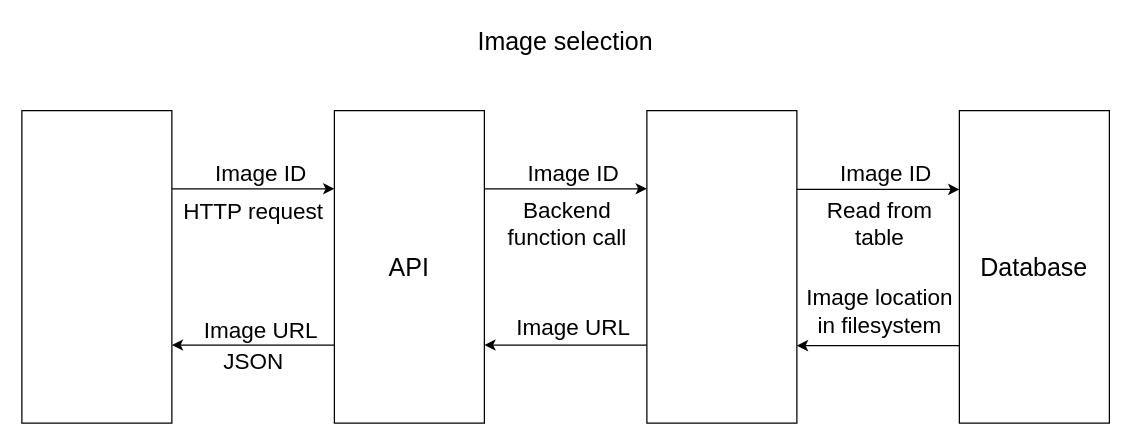
Image size: 1131x445. Some labels were removed from this diagram. The shapes that lost their labels are listed below. From the top down, each one's centre as x and y in pixels, then its label:
pixel 96 266: Frontend - Renders image from json's url
pixel 721 266: Business Logics
